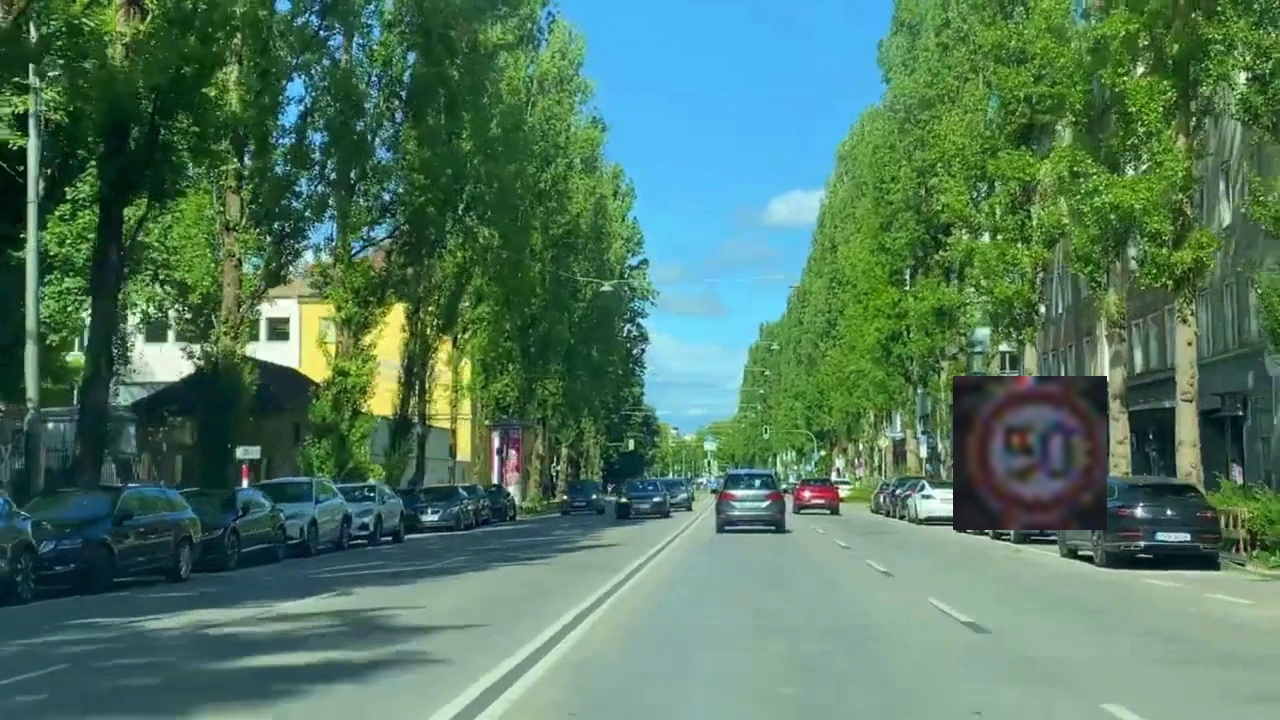Speed 50: (953, 376, 1107, 530)
